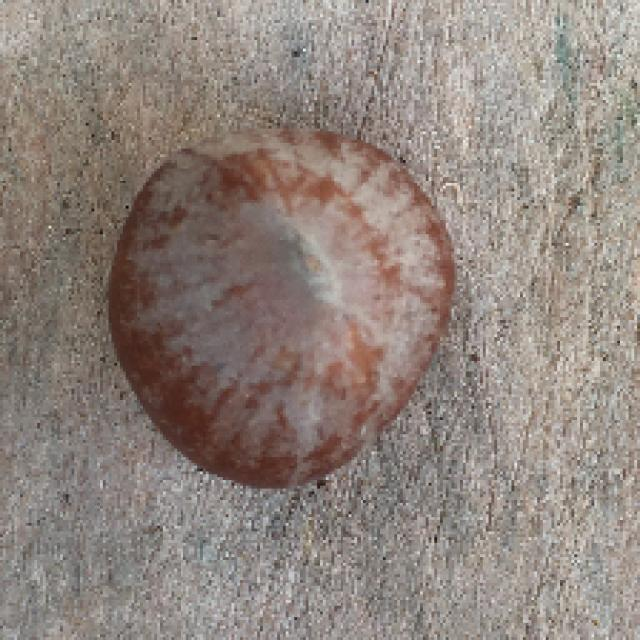qualityHazelnut: (105, 123, 456, 487)
